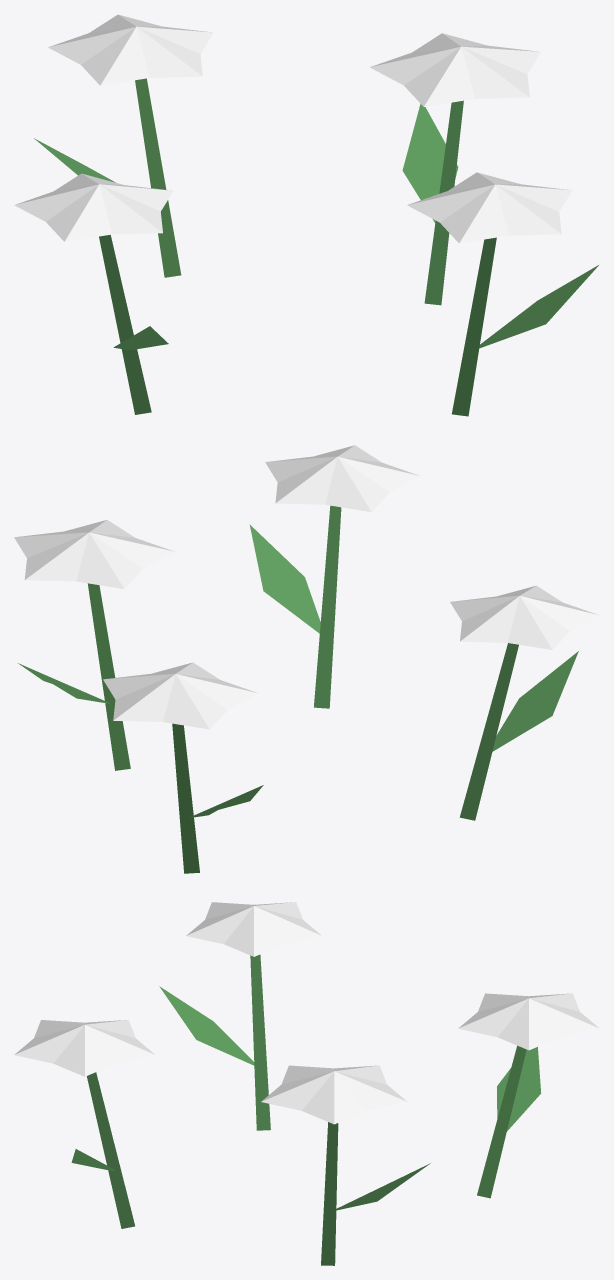
File: flowers_spring_03.glb
The picture shows the model from 3 angles, top to bottom: view 1: azimuth 30°, elevation 25°; view 2: azimuth 150°, elevation 25°; view 3: azimuth 270°, elevation 25°; orthographic projection. The views are drawn at different scales.
Visible parts, largest first — view 1: Flowers_spring_03; view 2: Flowers_spring_03; view 3: Flowers_spring_03.
Part boxes in pixels (left/top/right/bottom): Flowers_spring_03: left=14, top=14, right=598, bottom=416; Flowers_spring_03: left=14, top=445, right=599, bottom=873; Flowers_spring_03: left=14, top=902, right=599, bottom=1265.
Size of the model in its own units: 0.583 by 0.2508 by 0.6433.
